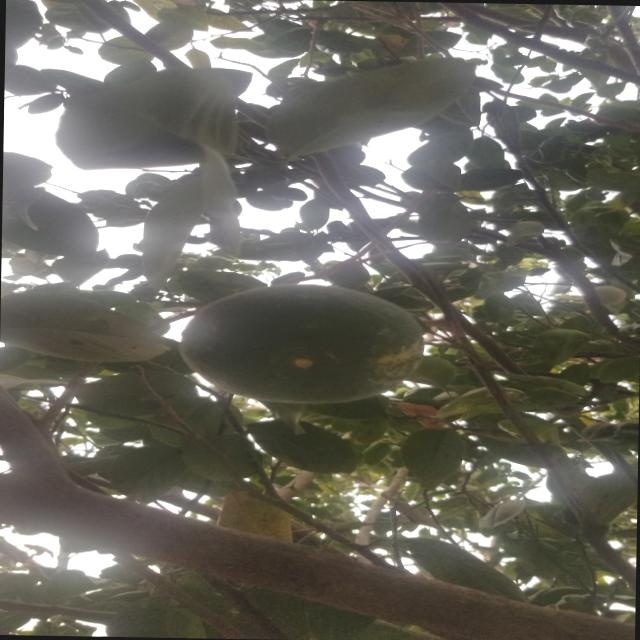agrume: (175, 283, 425, 402)
